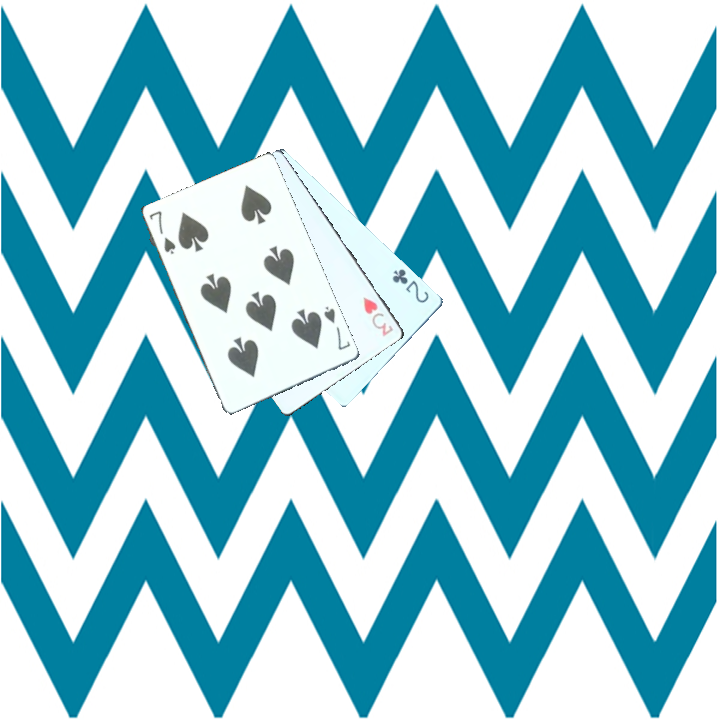2c: (388, 265, 431, 305)
3h: (359, 293, 396, 339)
7s: (145, 207, 178, 257), (320, 304, 353, 353)
